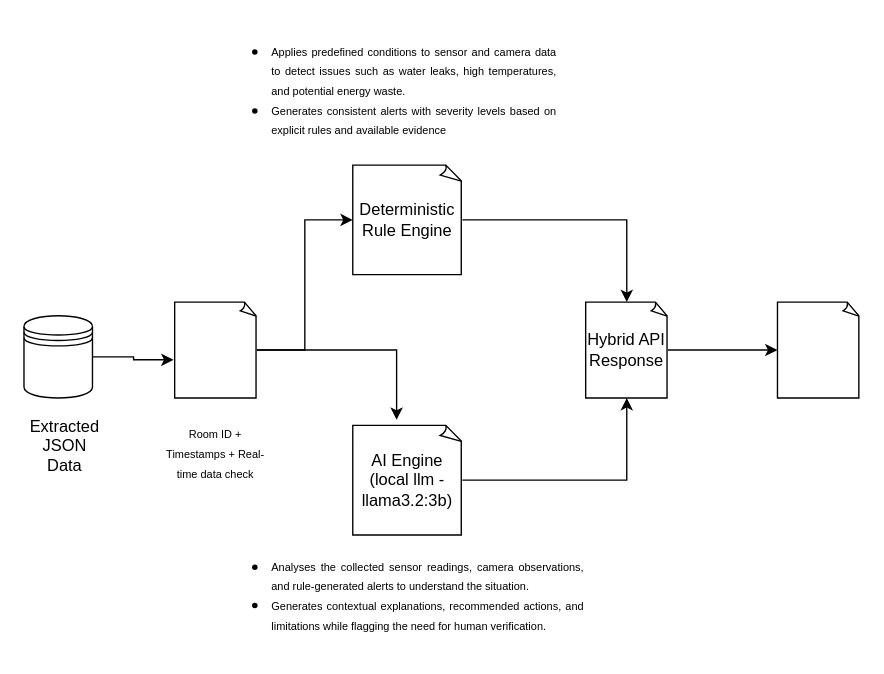
The diagram is 884 pixels wide and 674 high, and some of its shapes have lost their labels. The shapes that lost their labels are listed below. From the top down, each one's box as (x1, y1, x2, y2) in pixels, then its label:
(173, 301, 257, 398): Evidence Collection
(776, 301, 860, 398): Admin review
